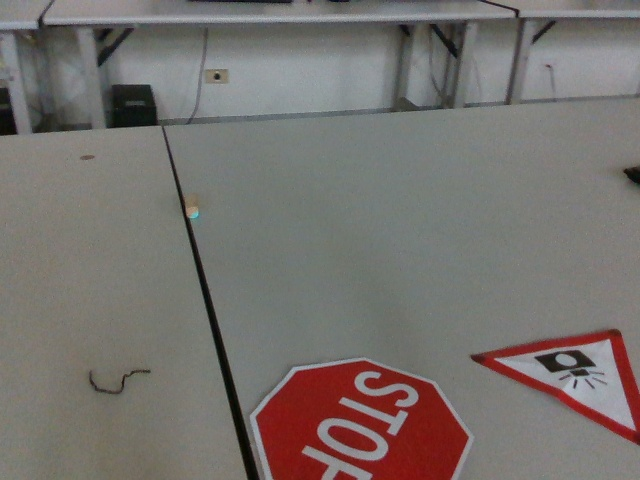camera: (471, 324, 640, 443)
stop: (248, 357, 473, 480)
